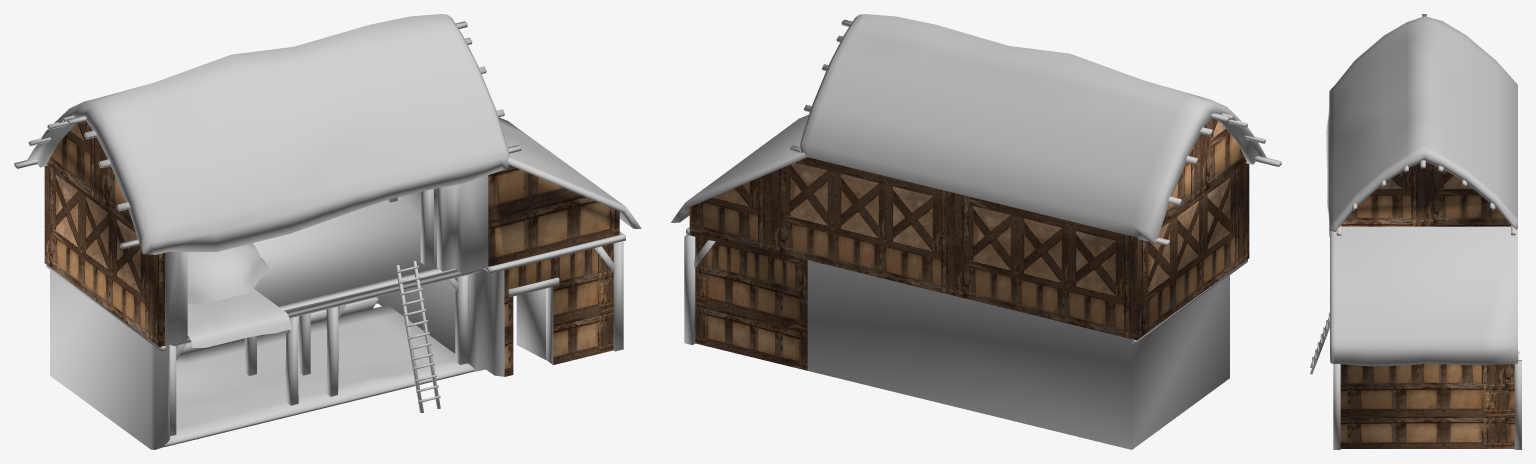
Rendered from Stable.fbx.
3 views of the same model, side by side, from view 1: azimuth 30°, elevation 25°; view 2: azimuth 150°, elevation 25°; view 3: azimuth 270°, elevation 25° (orthographic). The views are drawn at different scales.
Parts seen in each view (by area): view 1: Stable, StableFloor, StablePosts, Straw, Ladder, StrawTransparent, Troff; view 2: Stable, StablePosts; view 3: Stable, StablePosts, Ladder.
Boxes of the visible parts, <box> form: Stable: <box>14,14,641,449</box>; StableFloor: <box>165,305,474,446</box>; StablePosts: <box>170,189,623,436</box>; Straw: <box>187,243,269,304</box>; Ladder: <box>395,260,440,412</box>; StrawTransparent: <box>191,316,291,347</box>; Troff: <box>179,297,378,356</box>; Stable: <box>671,14,1281,449</box>; StablePosts: <box>684,234,715,344</box>; Stable: <box>1326,14,1517,448</box>; StablePosts: <box>1333,351,1521,449</box>; Ladder: <box>1310,312,1329,374</box>.
Bounding box in the file's own units: 1317 × 817 × 590.
